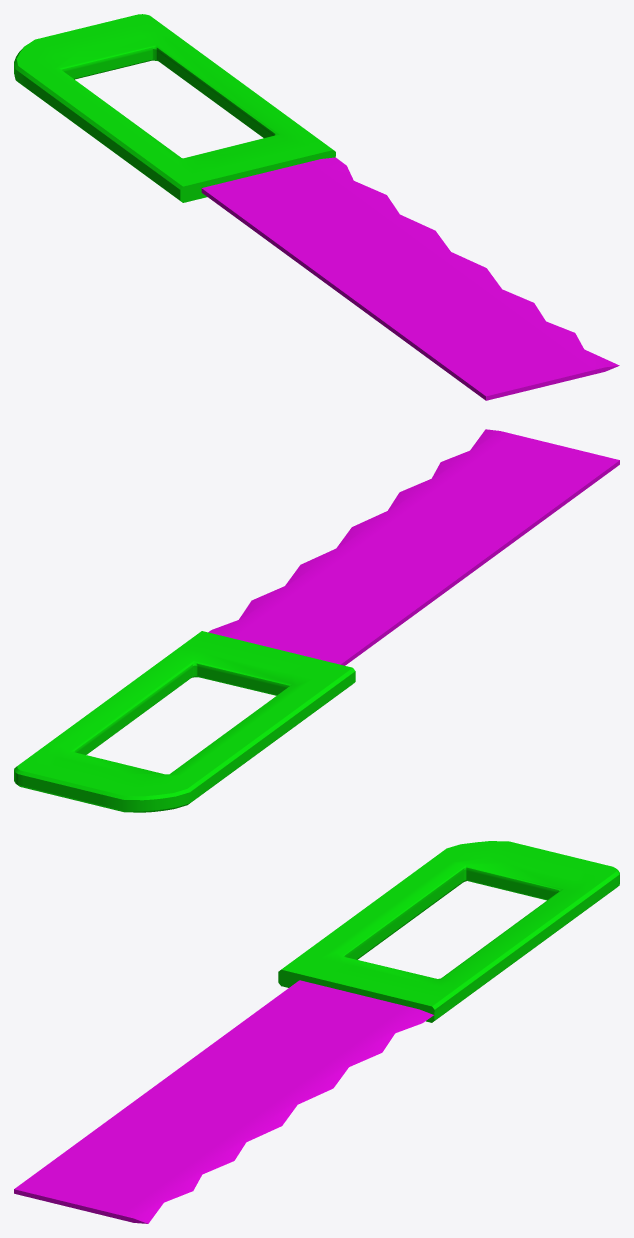
File: Bone_Saw.fbx
3 views of the same model, one above another, from view 1: azimuth 30°, elevation 25°; view 2: azimuth 150°, elevation 25°; view 3: azimuth 330°, elevation 25° (orthographic).
Visible parts, largest first — view 1: Bone_saw; view 2: Bone_saw; view 3: Bone_saw.
Part boxes in pixels (box(x1,y1,x2,y2)): Bone_saw: box(14, 14, 619, 400); Bone_saw: box(14, 429, 619, 812); Bone_saw: box(14, 841, 619, 1223).
Bounding box in the file's own units: 246 × 24.86 × 1299.
